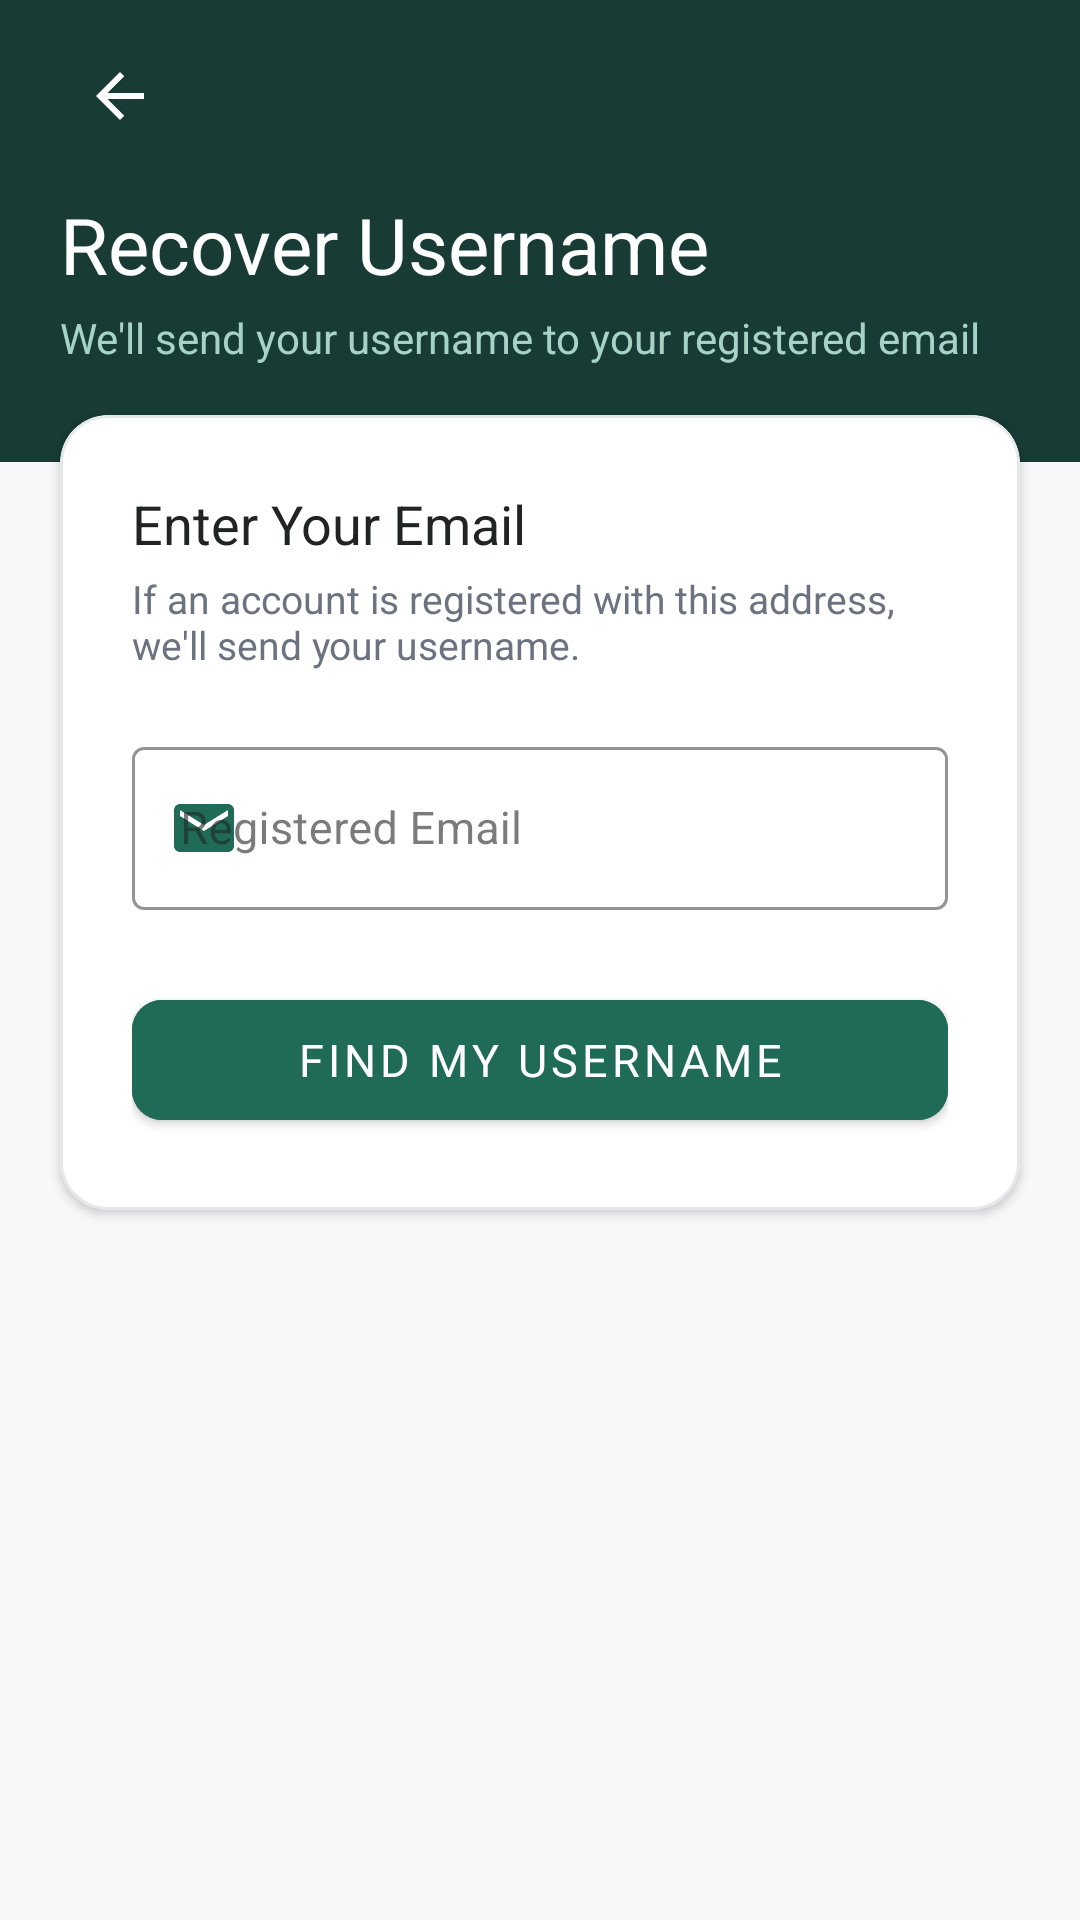

Icon bounding boxes for this 1080px x 1920px phone screenshot, format bbox(x1, y1, x2, y2):
Back: bbox(96, 72, 144, 120)
